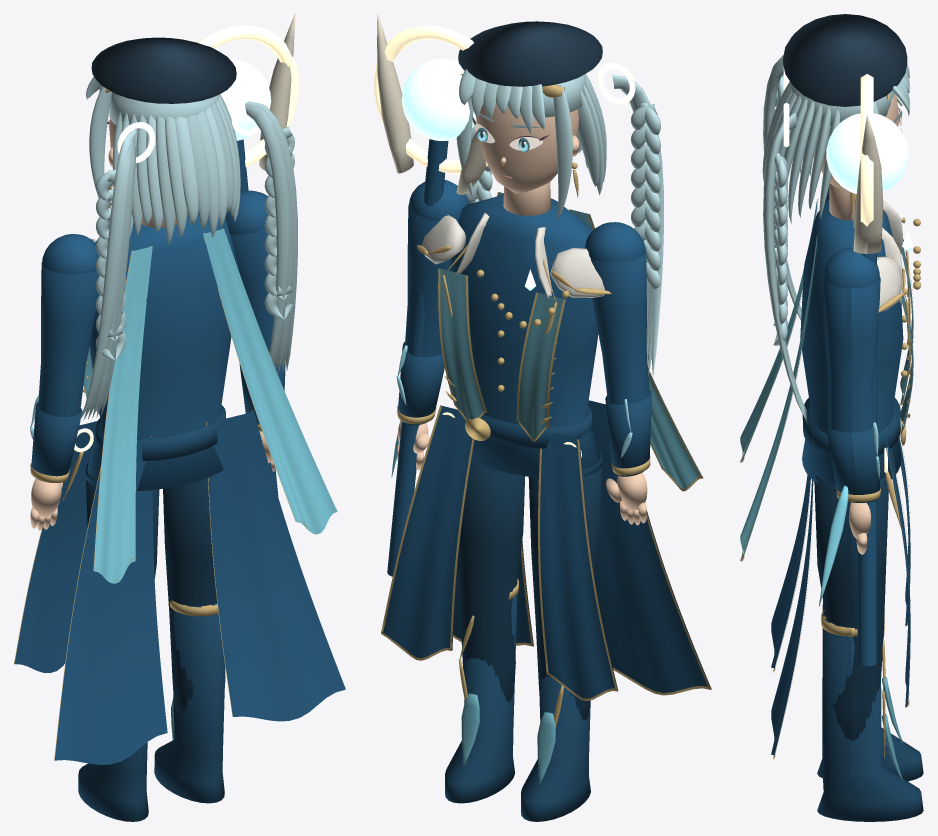
File: character_08.glb
The picture shows the model from 3 angles, left to right: view 1: azimuth 30°, elevation 25°; view 2: azimuth 150°, elevation 25°; view 3: azimuth 270°, elevation 25°; orthographic projection.
Visible parts, largest first — view 1: _MeshInstance3D_2485, _MeshInstance3D_2481, _MeshInstance3D_2475, _MeshInstance3D_2534, _MeshInstance3D_2497, _MeshInstance3D_2495, _MeshInstance3D_2509, _MeshInstance3D_2479, _MeshInstance3D_2503, _MeshInstance3D_2542, _MeshInstance3D_2508, _MeshInstance3D_2535 (+14 smaller); view 2: _MeshInstance3D_2475, _MeshInstance3D_2481, _MeshInstance3D_2479, _MeshInstance3D_2483, _MeshInstance3D_2508, _MeshInstance3D_2534, _MeshInstance3D_2512, _MeshInstance3D_2503, _MeshInstance3D_2542, _MeshInstance3D_2509, _MeshInstance3D_2500, _MeshInstance3D_2521 (+26 smaller); view 3: _MeshInstance3D_2512, _MeshInstance3D_2509, _MeshInstance3D_2475, _MeshInstance3D_2542, _MeshInstance3D_2508, _MeshInstance3D_2516, _MeshInstance3D_2540, _MeshInstance3D_2534, _MeshInstance3D_2513, _MeshInstance3D_2537, _MeshInstance3D_2517, _MeshInstance3D_2485 (+20 smaller).
Part boxes in pixels (bbox=[...]): _MeshInstance3D_2485: bbox=[206, 411, 345, 721]; _MeshInstance3D_2481: bbox=[54, 436, 167, 764]; _MeshInstance3D_2475: bbox=[85, 212, 238, 491]; _MeshInstance3D_2534: bbox=[79, 77, 292, 421]; _MeshInstance3D_2497: bbox=[203, 229, 337, 534]; _MeshInstance3D_2495: bbox=[94, 246, 152, 583]; _MeshInstance3D_2509: bbox=[154, 603, 225, 803]; _MeshInstance3D_2479: bbox=[14, 421, 96, 672]; _MeshInstance3D_2503: bbox=[38, 234, 99, 482]; _MeshInstance3D_2542: bbox=[91, 37, 236, 103]; _MeshInstance3D_2508: bbox=[163, 477, 225, 715]; _MeshInstance3D_2535: bbox=[112, 99, 238, 237]; _MeshInstance3D_2475: bbox=[450, 194, 602, 477]; _MeshInstance3D_2481: bbox=[588, 400, 711, 692]; _MeshInstance3D_2479: bbox=[540, 433, 618, 698]; _MeshInstance3D_2483: bbox=[383, 405, 474, 658]; _MeshInstance3D_2508: bbox=[457, 461, 525, 701]; _MeshInstance3D_2534: bbox=[456, 69, 663, 376]; _MeshInstance3D_2512: bbox=[387, 139, 469, 576]; _MeshInstance3D_2503: bbox=[584, 222, 649, 476]; _MeshInstance3D_2542: bbox=[458, 21, 602, 86]; _MeshInstance3D_2509: bbox=[445, 582, 517, 803]; _MeshInstance3D_2500: bbox=[521, 676, 590, 821]; _MeshInstance3D_2521: bbox=[476, 103, 579, 193]; _MeshInstance3D_2512: bbox=[823, 247, 880, 666]; _MeshInstance3D_2509: bbox=[817, 612, 923, 821]; _MeshInstance3D_2475: bbox=[800, 200, 903, 491]; _MeshInstance3D_2542: bbox=[783, 14, 907, 106]; _MeshInstance3D_2508: bbox=[814, 475, 888, 740]; _MeshInstance3D_2516: bbox=[826, 113, 908, 193]; _MeshInstance3D_2540: bbox=[763, 59, 806, 421]; _MeshInstance3D_2534: bbox=[763, 55, 909, 417]; _MeshInstance3D_2513: bbox=[826, 423, 880, 494]; _MeshInstance3D_2537: bbox=[773, 70, 909, 345]; _MeshInstance3D_2517: bbox=[853, 115, 883, 253]; _MeshInstance3D_2485: bbox=[771, 433, 813, 758].
Size of the model in its own units: 1 by 2.43 by 0.5333.
